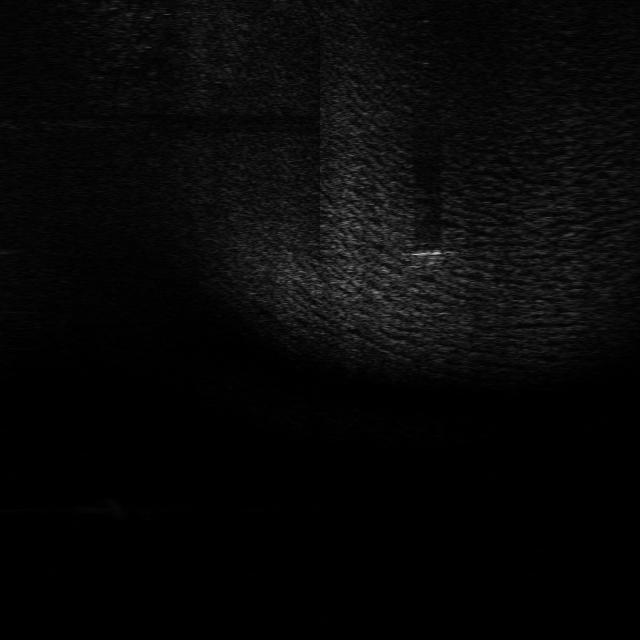cube: (409, 248, 448, 272)
